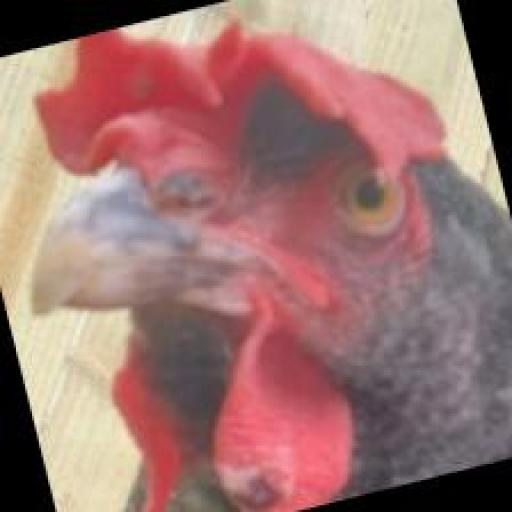disease: (235, 433, 326, 506)
